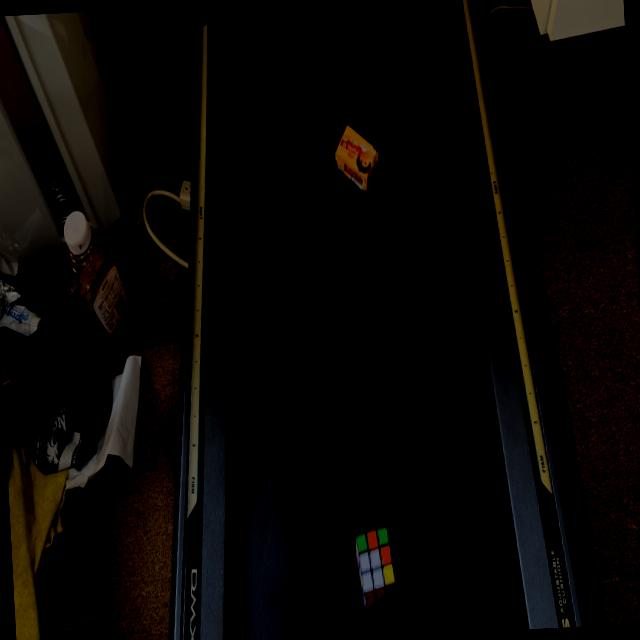Trash: (344, 478, 400, 628), (324, 96, 384, 204)
